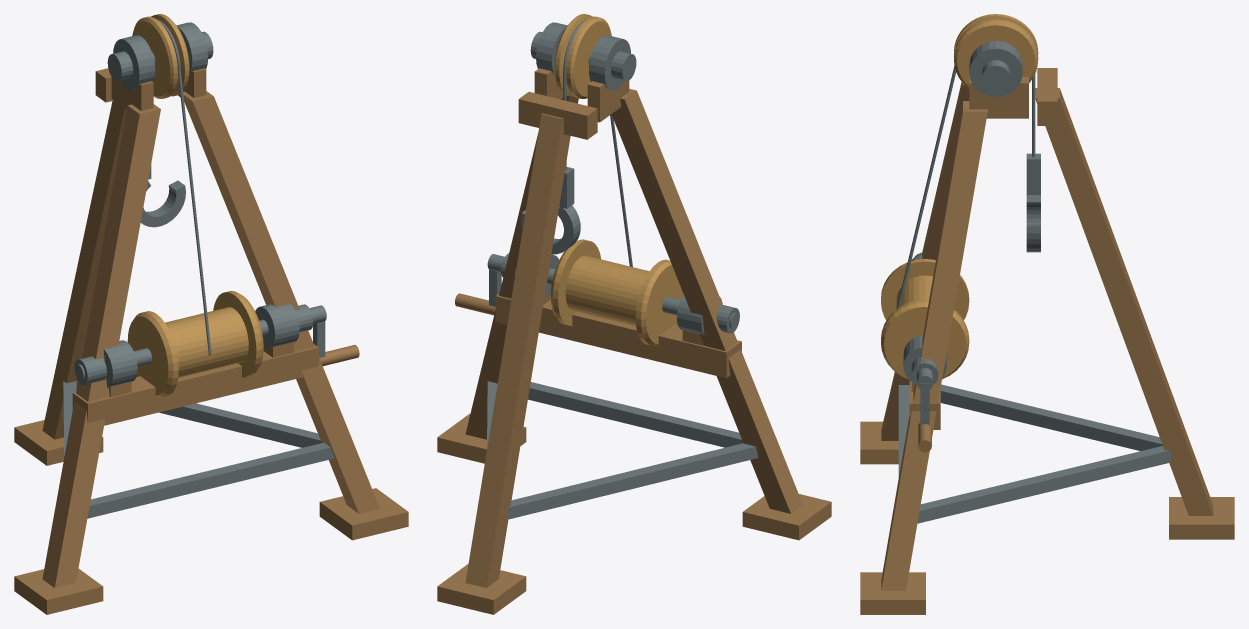
3 renders of one model, left to right at view 1: azimuth 30°, elevation 25°; view 2: azimuth 150°, elevation 25°; view 3: azimuth 270°, elevation 25°, orthographic.
Visible parts, largest first — view 1: Leg1WholeConvergingPost, Leg2WholeConvergingPost, WholeIntegralLowWinchDrum, Leg3WholeConvergingPost, WholeFrontDrumCrossBeam, WholeLowerTriangularBrace1, WholeGroovedHeadSheave, WholeLowerTriangularBrace2, Foot2WholeGroundPad, Foot1WholeGroundPad, Foot3WholeGroundPad, RightWholeBoredDrumBearing (+10 smaller); view 2: Leg3WholeConvergingPost, Leg1WholeConvergingPost, WholeIntegralLowWinchDrum, WholeFrontDrumCrossBeam, WholeLowerTriangularBrace3, WholeLowerTriangularBrace1, Leg2WholeConvergingPost, WholeGroovedHeadSheave, Foot3WholeGroundPad, Foot1WholeGroundPad, WholeRearHeadCrossTie, Foot2WholeGroundPad (+10 smaller); view 3: Leg2WholeConvergingPost, Leg3WholeConvergingPost, WholeIntegralLowWinchDrum, WholeLowerTriangularBrace2, WholeLowerTriangularBrace3, WholeGroovedHeadSheave, Leg1WholeConvergingPost, Foot2WholeGroundPad, Foot3WholeGroundPad, RightWholeBoredHeadBearing, RightWholeHeadCheekRoot, Foot1WholeGroundPad (+7 smaller).
Part boxes in pixels (bbox=[...]): Leg1WholeConvergingPost: bbox=[42, 104, 160, 587]; Leg2WholeConvergingPost: bbox=[183, 91, 379, 513]; WholeIntegralLowWinchDrum: bbox=[127, 291, 263, 397]; Leg3WholeConvergingPost: bbox=[42, 100, 126, 439]; WholeFrontDrumCrossBeam: bbox=[72, 344, 318, 425]; WholeLowerTriangularBrace1: bbox=[87, 442, 334, 518]; WholeGroovedHeadSheave: bbox=[132, 14, 189, 98]; WholeLowerTriangularBrace2: bbox=[76, 381, 322, 447]; Foot2WholeGroundPad: bbox=[319, 488, 408, 540]; Foot1WholeGroundPad: bbox=[14, 568, 103, 614]; Foot3WholeGroundPad: bbox=[14, 420, 103, 465]; RightWholeBoredDrumBearing: bbox=[255, 303, 299, 348]; Leg3WholeConvergingPost: bbox=[465, 113, 570, 587]; Leg1WholeConvergingPost: bbox=[611, 89, 802, 513]; WholeIntegralLowWinchDrum: bbox=[550, 239, 683, 346]; WholeFrontDrumCrossBeam: bbox=[495, 294, 741, 378]; WholeLowerTriangularBrace3: bbox=[507, 443, 758, 519]; WholeLowerTriangularBrace1: bbox=[528, 382, 743, 447]; Leg2WholeConvergingPost: bbox=[465, 95, 578, 439]; WholeGroovedHeadSheave: bbox=[554, 14, 611, 98]; Foot3WholeGroundPad: bbox=[437, 564, 526, 614]; Foot1WholeGroundPad: bbox=[742, 494, 831, 540]; WholeRearHeadCrossTie: bbox=[518, 92, 597, 139]; Foot2WholeGroundPad: bbox=[437, 413, 526, 463]; Leg2WholeConvergingPost: bbox=[881, 101, 987, 590]; Leg3WholeConvergingPost: bbox=[1035, 88, 1213, 515]; WholeIntegralLowWinchDrum: bbox=[881, 259, 969, 379]; WholeLowerTriangularBrace2: bbox=[917, 446, 1170, 523]; WholeLowerTriangularBrace3: bbox=[940, 384, 1162, 450]; WholeGroovedHeadSheave: bbox=[954, 14, 1038, 88]; Leg1WholeConvergingPost: bbox=[881, 82, 969, 440]; Foot2WholeGroundPad: bbox=[860, 572, 925, 614]; Foot3WholeGroundPad: bbox=[1169, 497, 1234, 539]; RightWholeBoredHeadBearing: bbox=[969, 41, 1022, 96]; RightWholeHeadCheekRoot: bbox=[969, 77, 1028, 118]; Foot1WholeGroundPad: bbox=[860, 421, 898, 464].
Size of the model in its own units: 2.05 by 2.72 by 1.82.
